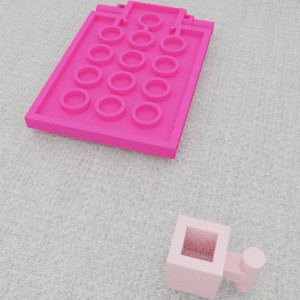lego: (23, 0, 214, 159), (164, 214, 265, 300)
